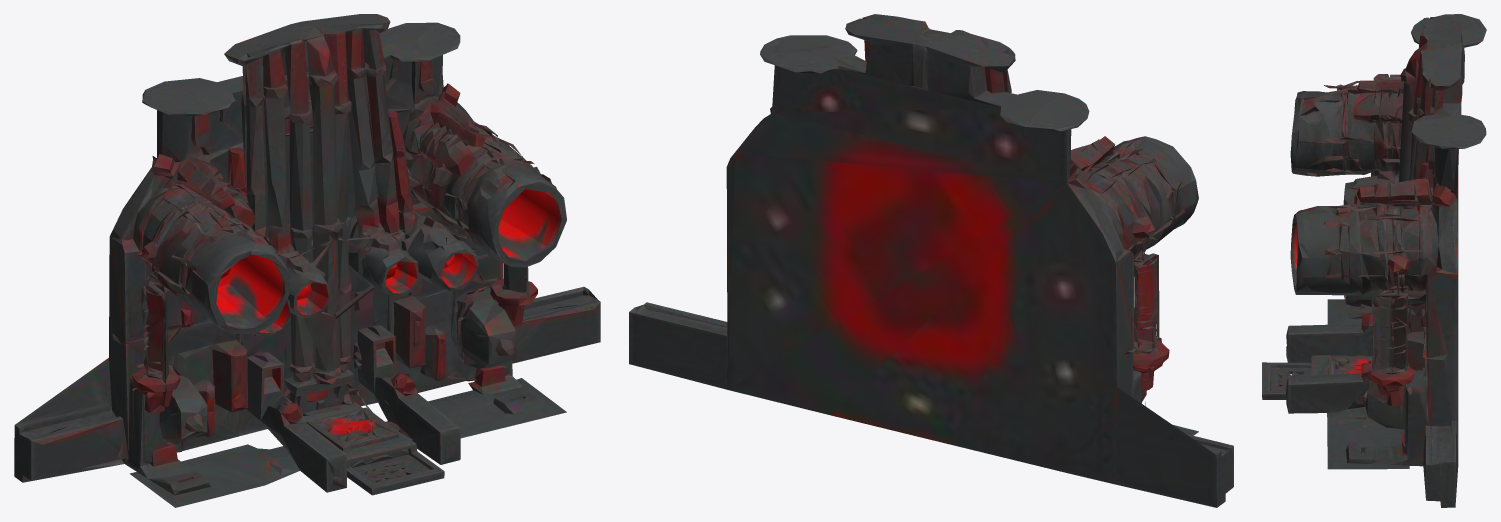
The model's file is boss-organ.glb.
3 views of the same model, side by side, from view 1: azimuth 30°, elevation 25°; view 2: azimuth 150°, elevation 25°; view 3: azimuth 270°, elevation 25° (orthographic). The views are drawn at different scales.
Bounding box in the file's own units: 1.9 × 1.23 × 0.7315.
1 material, 1 textured.
